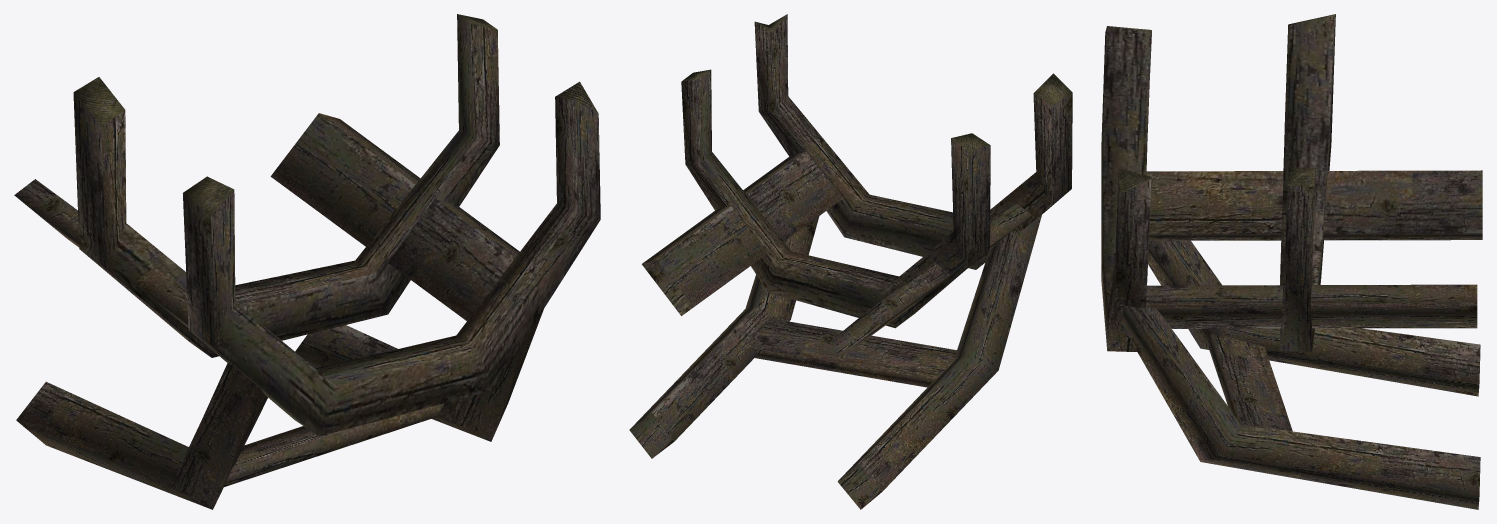
Rendered from OC_BARRELHOLDER_V01.glb.
The picture shows the model from 3 angles, left to right: view 1: azimuth 30°, elevation 25°; view 2: azimuth 150°, elevation 25°; view 3: azimuth 270°, elevation 25°; orthographic projection. The views are drawn at different scales.
Visible parts, largest first — view 1: Mesh; view 2: Mesh; view 3: Mesh.
Part boxes in pixels (x1,y1,x2,y2): Mesh: (14, 14, 600, 509); Mesh: (629, 14, 1072, 509); Mesh: (1101, 14, 1482, 509).
Bounding box in the file's own units: 0.842 × 0.8921 × 0.839.
Materials: 2 (2 with a texture image).
